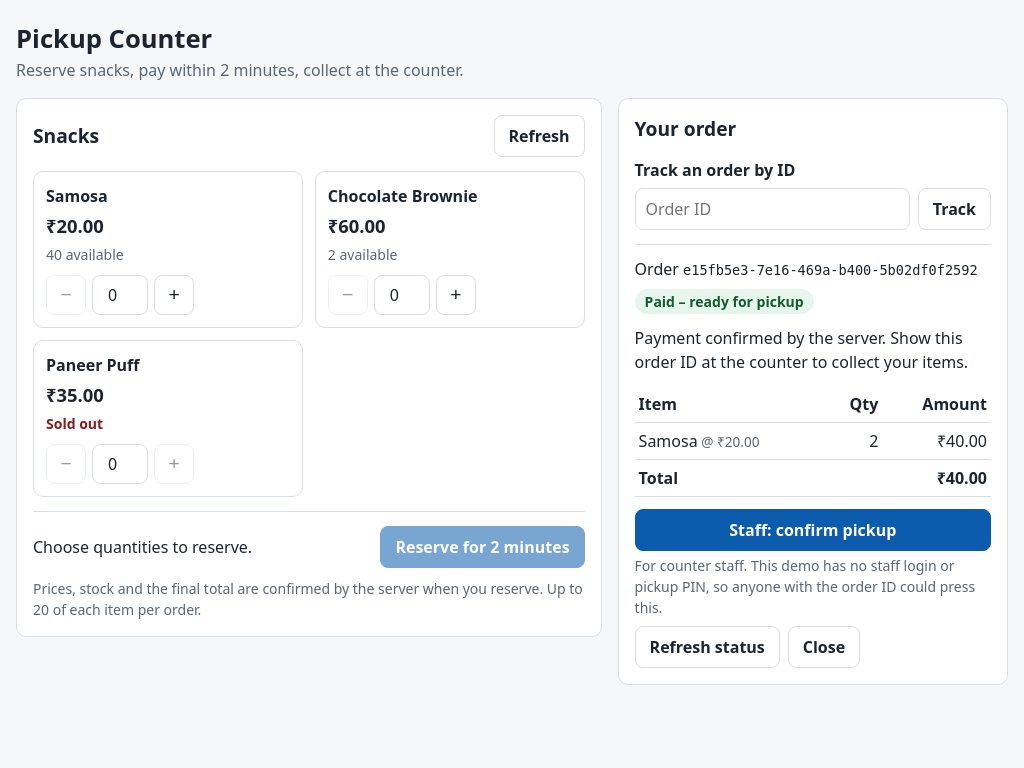
Scenario: pickup collection › shows the server reason when the order is not collectable (e.g. expired)
The image size is (1024, 768).
Click the button "Staff: confirm pickup": {"x": 813, "y": 530} 635,509 -> 991,551
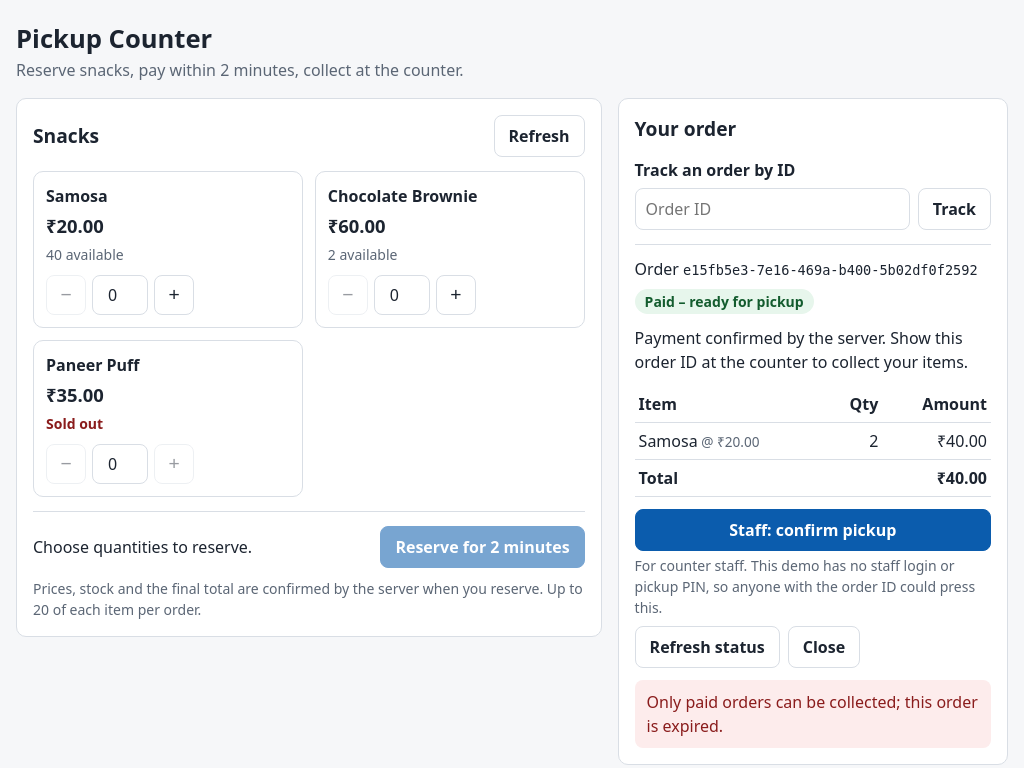
Now the message reads "Only paid orders can be collected; this order is expired.", box 647,691 -> 978,737
